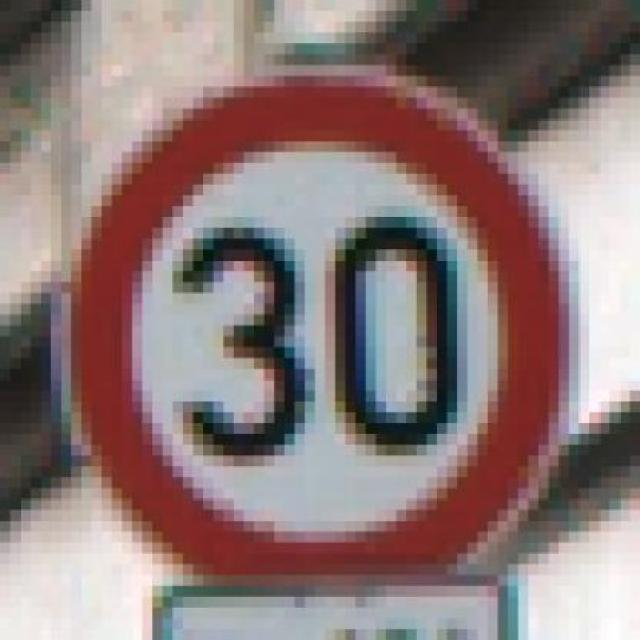Speed Limit 30 KMPh: (30, 43, 630, 597)
